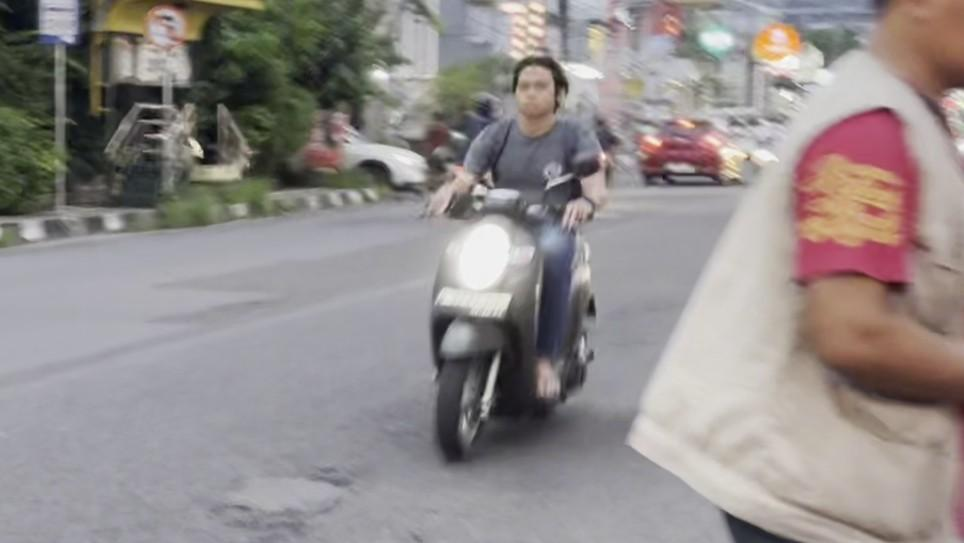nohelm: (509, 54, 572, 122)
riding: (415, 53, 613, 463)
